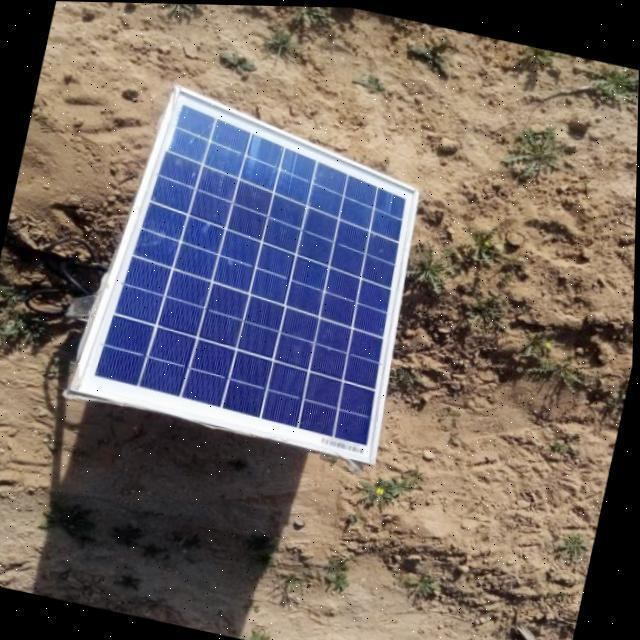Normal Solar Panel: (71, 78, 446, 464)
